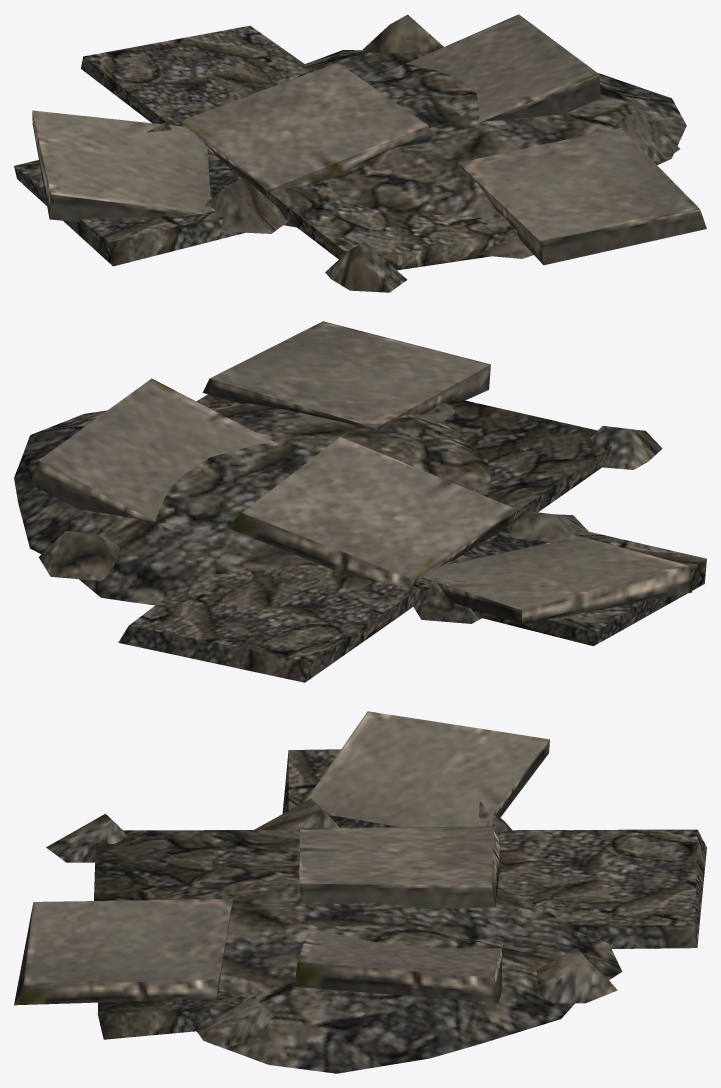
The model's file is SM_Plains_Floors_Rubble02.FBX.
3 views of the same model, one above another, from view 1: azimuth 30°, elevation 25°; view 2: azimuth 150°, elevation 25°; view 3: azimuth 270°, elevation 25° (orthographic). The views are drawn at different scales.
Visible parts, largest first — view 1: SM_Plains_Floors_Rubble02; view 2: SM_Plains_Floors_Rubble02; view 3: SM_Plains_Floors_Rubble02.
Boxes of the visible parts, x1,y1,x2,y2 form: SM_Plains_Floors_Rubble02: [14, 14, 706, 292]; SM_Plains_Floors_Rubble02: [14, 321, 706, 682]; SM_Plains_Floors_Rubble02: [14, 711, 706, 1073].
Bounding box in the file's own units: 126 × 14.79 × 116.
